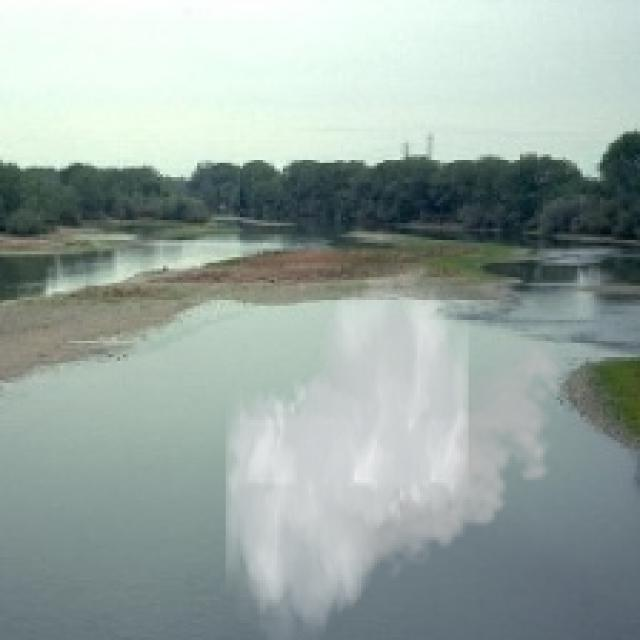smoke: (226, 263, 574, 637)
